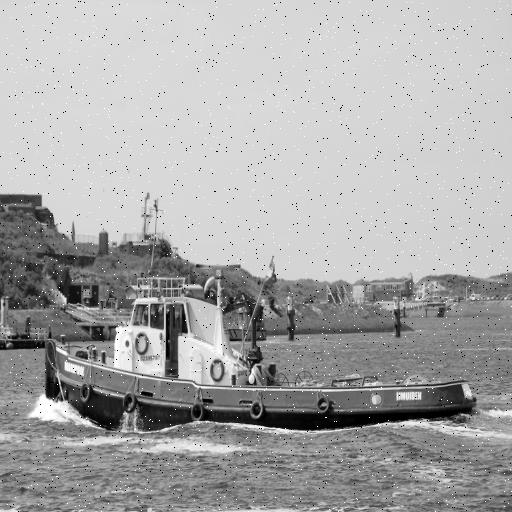tugboat: (43, 198, 483, 448)
